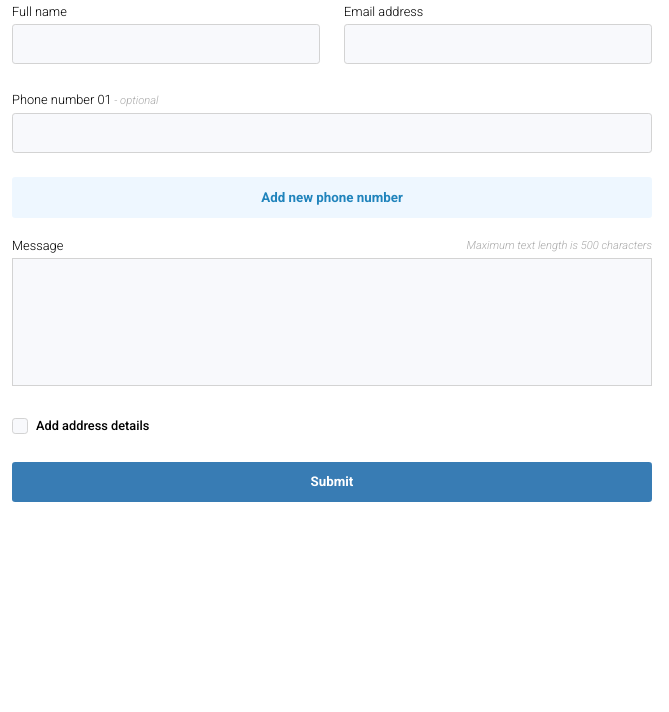
Test: Contact Form › renders address details based on checkbox
The image size is (669, 712).
Click the checkbox labelled "Add address details" at (20,426), box left=12, top=418, right=28, bottom=434
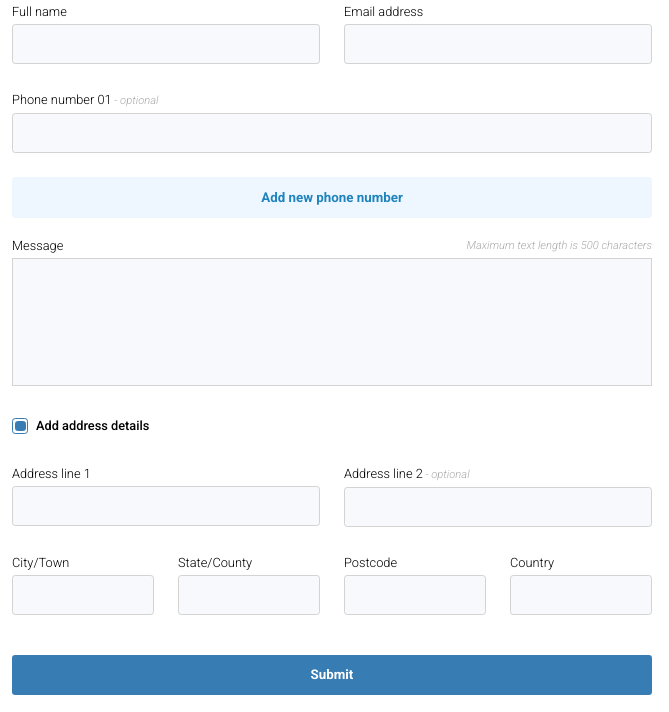
Check: the field labelled "Postcode" is shown, box left=344, top=575, right=486, bottom=615
